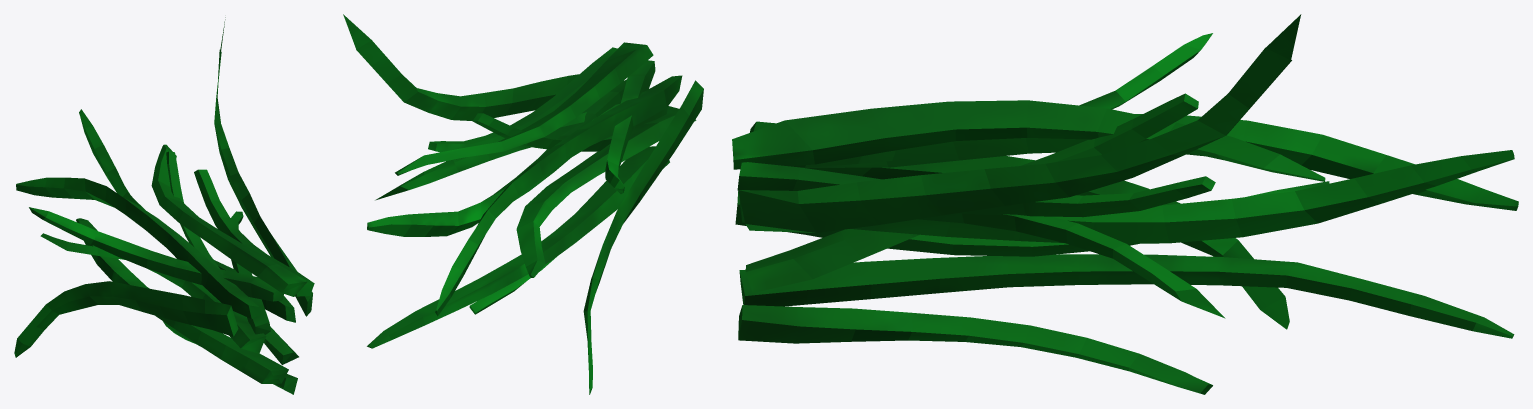
The model's file is grass bunch 1.fbx.
3 renders of one model, left to right at view 1: azimuth 30°, elevation 25°; view 2: azimuth 150°, elevation 25°; view 3: azimuth 270°, elevation 25°, orthographic. The views are drawn at different scales.
Parts seen in each view (by area): view 1: grass bunch 1; view 2: grass bunch 1; view 3: grass bunch 1.
Part boxes in pixels (<box>): grass bunch 1: <box>14,17,314,394</box>; grass bunch 1: <box>343,14,703,394</box>; grass bunch 1: <box>732,14,1518,394</box>.
Size of the model in its own units: 28.6 by 35.35 by 50.94.
1 material, 1 textured.
